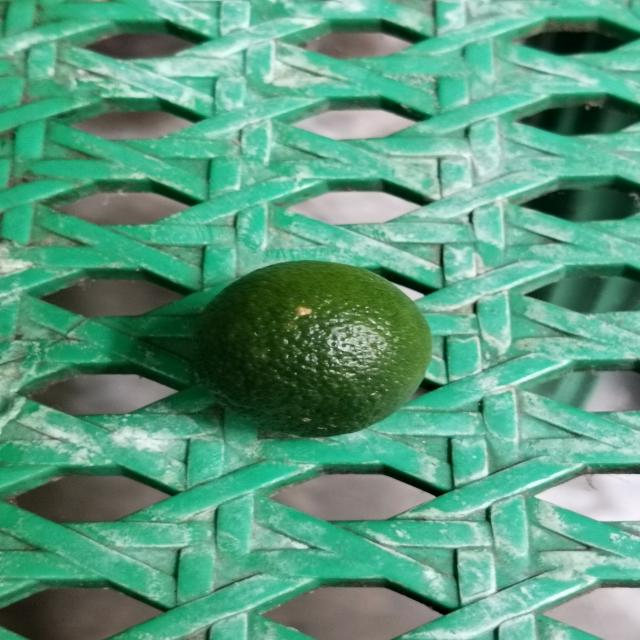heathy: (190, 260, 432, 437)
